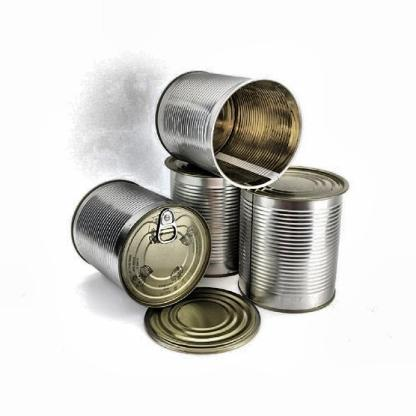Can: (69, 175, 215, 311), (151, 67, 307, 194), (236, 160, 352, 316), (162, 144, 252, 282), (141, 279, 267, 365)
